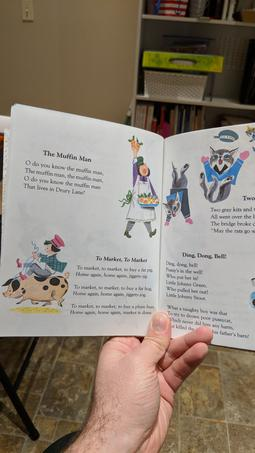text block: (162, 246, 253, 341), (16, 137, 113, 203), (70, 249, 156, 322), (206, 189, 255, 237)
